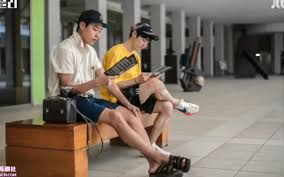people: (49, 11, 103, 122), (106, 21, 169, 112)
